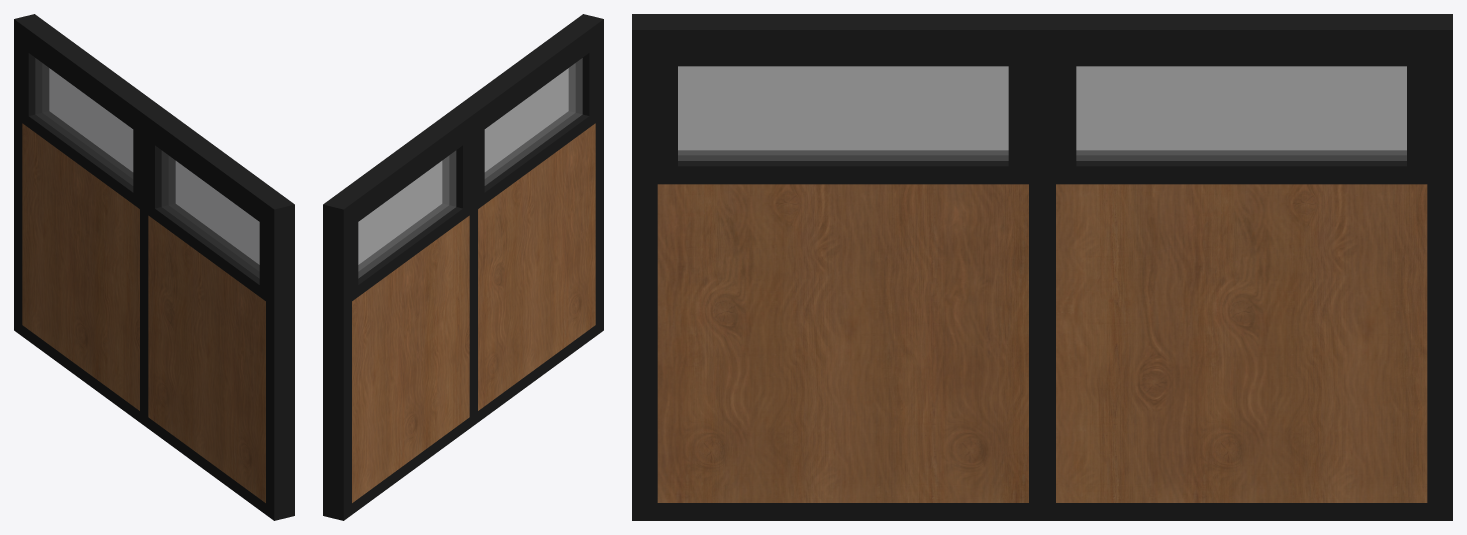
File: CublicleSideS.FBX
3 renders of one model, left to right at view 1: azimuth 30°, elevation 25°; view 2: azimuth 150°, elevation 25°; view 3: azimuth 270°, elevation 25°, orthographic. The views are drawn at different scales.
Parts seen in each view (by area): view 1: CubicleSideS, CubicleSide1Glass007; view 2: CubicleSideS, CubicleSide1Glass007; view 3: CubicleSideS, CubicleSide1Glass007.
Boxes of the visible parts, left/top/right/bottom form: CubicleSideS: left=14, top=14, right=294, bottom=520; CubicleSide1Glass007: left=35, top=58, right=259, bottom=278; CubicleSideS: left=323, top=14, right=603, bottom=520; CubicleSide1Glass007: left=358, top=58, right=582, bottom=278; CubicleSideS: left=632, top=14, right=1452, bottom=520; CubicleSide1Glass007: left=678, top=66, right=1406, bottom=160.
Size of the model in its own units: 9.25 by 133 by 202.
